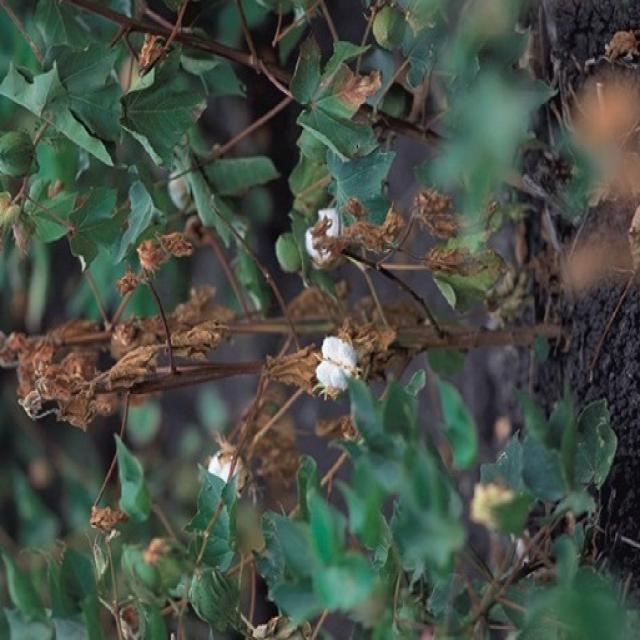Fusarium Wilt: (8, 28, 612, 640)
